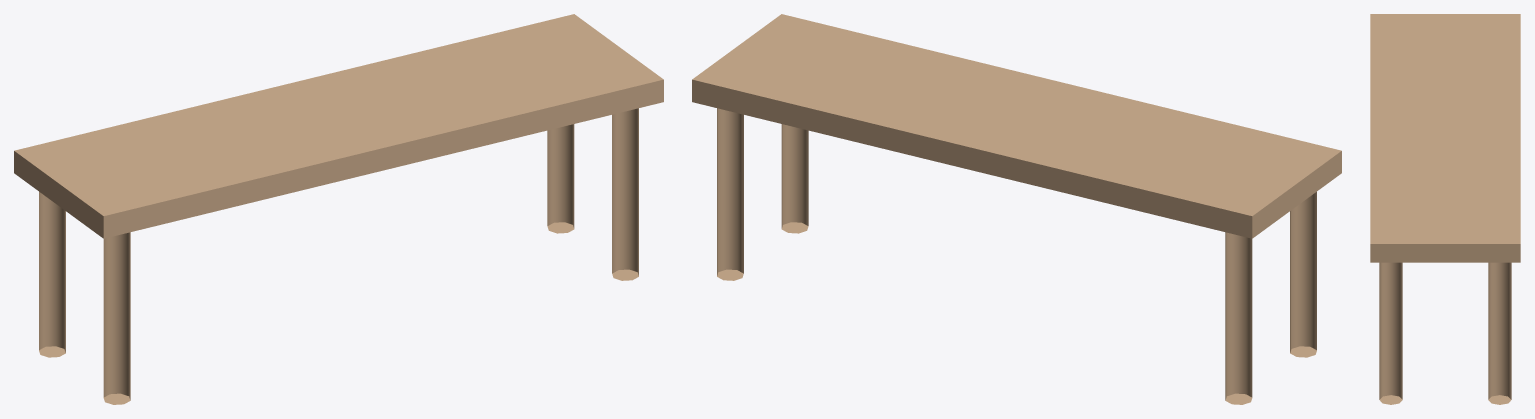
Rendered from bench_06.glb.
3 views of the same model, side by side, from view 1: azimuth 30°, elevation 25°; view 2: azimuth 150°, elevation 25°; view 3: azimuth 270°, elevation 25° (orthographic). The views are drawn at different scales.
Bounding box in the file's own units: 1.3 × 0.44 × 0.36.
